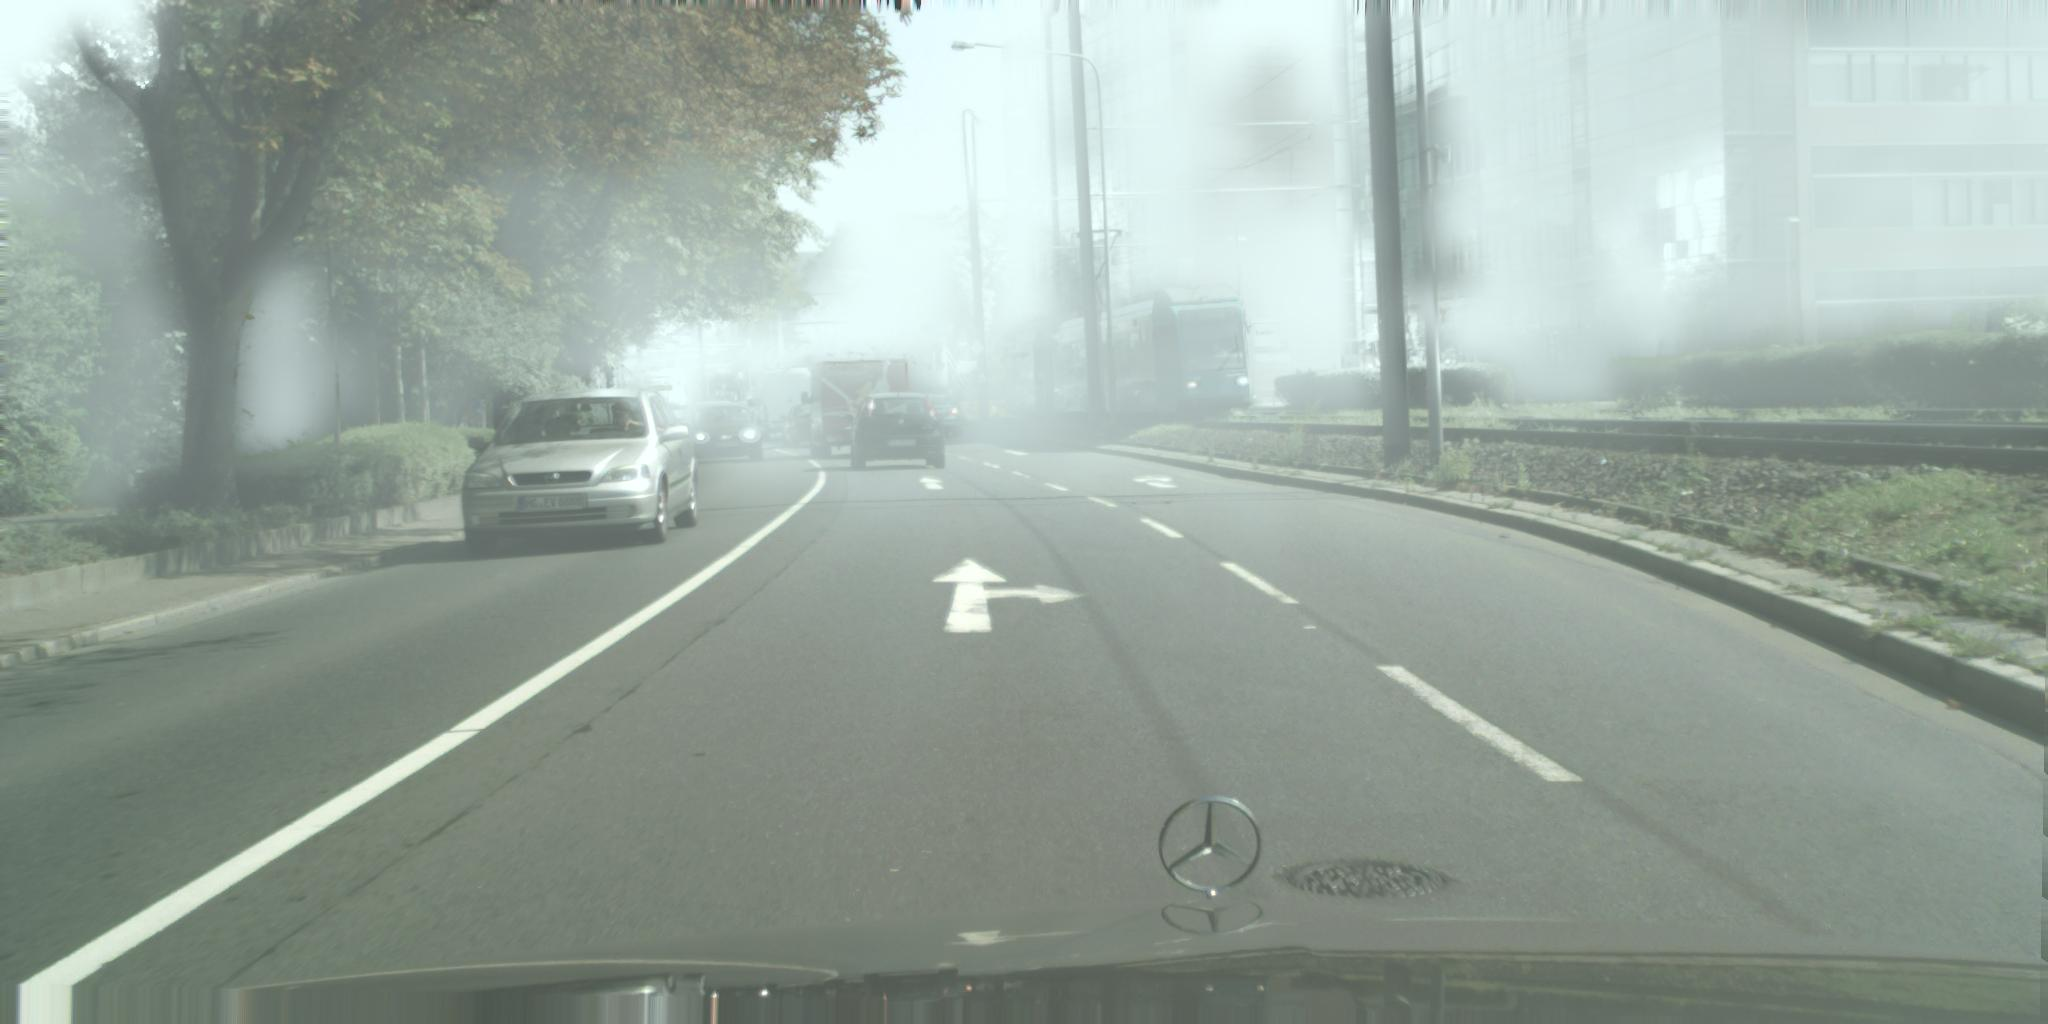car: (461, 388, 700, 556), (846, 394, 947, 472), (754, 367, 824, 441), (687, 404, 765, 461), (918, 394, 964, 438), (669, 405, 714, 443), (686, 400, 735, 434), (781, 402, 818, 448)
train: (1000, 283, 1258, 418)
truck: (799, 359, 910, 460)
